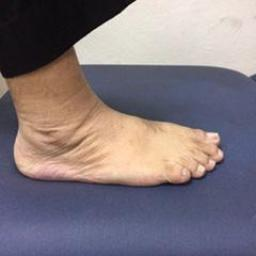Lateral View -Right Foot-: (2, 81, 231, 204)
